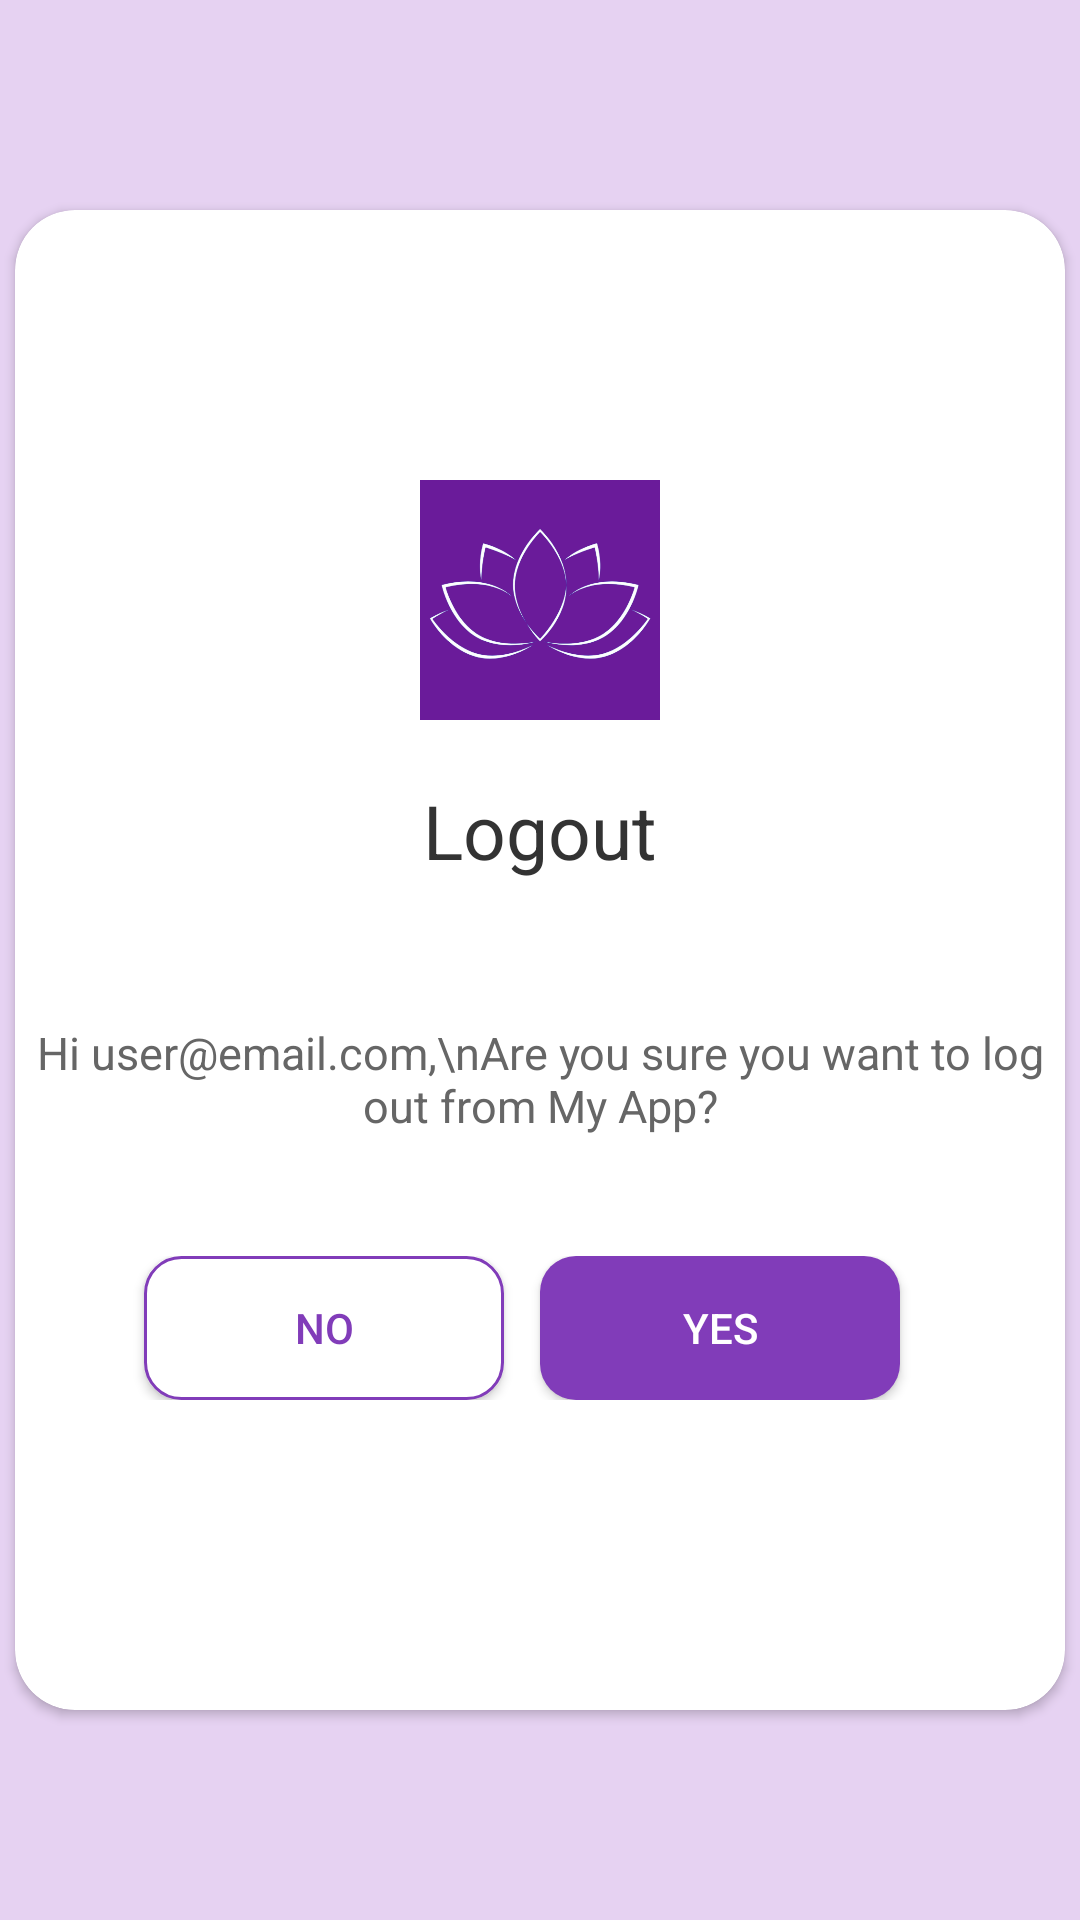

Point at icon controls on the screen. Image size 1080 x 1920, points as (x=x, y=y).
lotus: (x=540, y=600)
